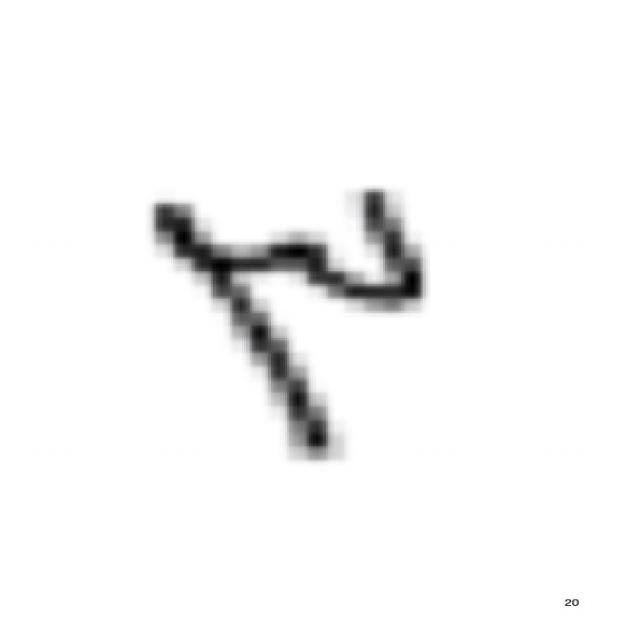3 -three-: (126, 173, 440, 469)
